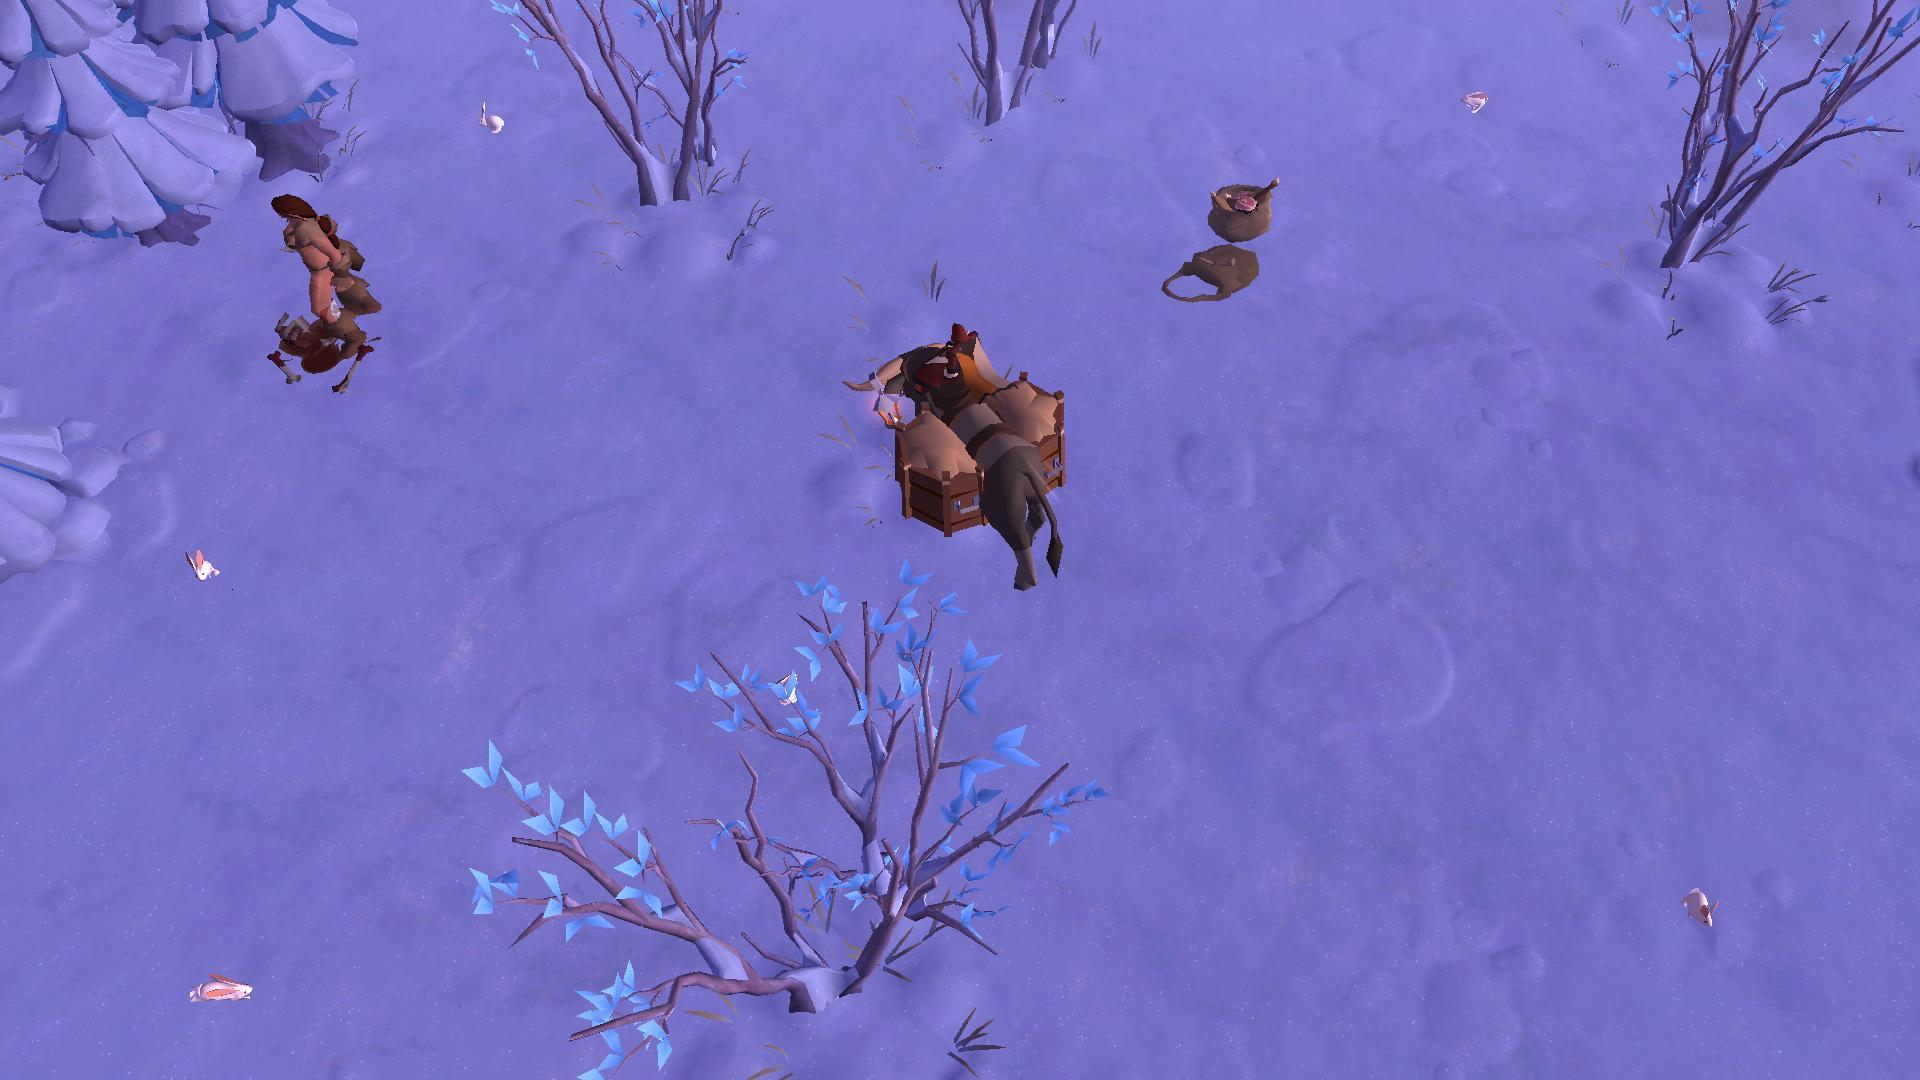enemy_factionKeeper: (268, 186, 382, 359)
